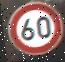Speed Limit -60-: (2, 0, 64, 58)
